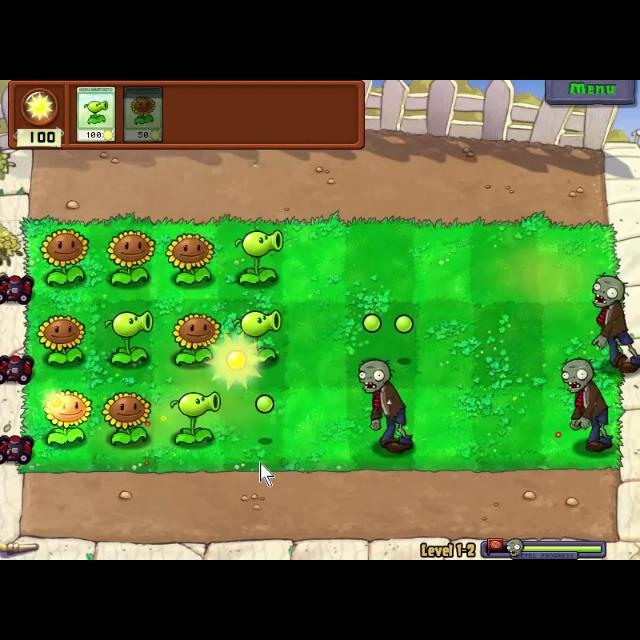Garden: (19, 213, 628, 474)
Menu Button: (543, 80, 635, 106)
Mower: (0, 431, 36, 467), (0, 350, 32, 386), (1, 268, 32, 304)
Peashooter: (75, 84, 115, 144)
Peashooter Seed: (230, 223, 284, 291), (164, 388, 223, 448), (228, 307, 284, 365), (100, 308, 154, 368)
Seed Panel: (5, 80, 368, 152)
Sun: (208, 334, 266, 392), (40, 388, 70, 416)
Sunflower: (122, 86, 164, 144)
Sunflower Seed: (36, 386, 90, 452), (38, 220, 90, 286), (99, 388, 155, 449), (162, 228, 214, 288), (104, 224, 154, 286), (170, 312, 224, 368), (33, 313, 86, 369)
Zombie: (354, 356, 416, 454), (558, 356, 616, 454), (592, 274, 640, 374)
